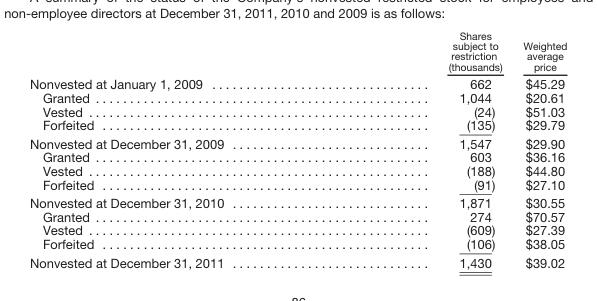table: (28, 28, 566, 270)
table column: (28, 28, 335, 270), (335, 28, 512, 270), (512, 28, 566, 270)
table column header: (28, 28, 566, 74)
table row: (28, 28, 566, 74), (28, 252, 566, 270), (28, 117, 566, 134), (28, 74, 566, 90), (28, 134, 566, 150), (28, 177, 566, 193), (28, 193, 566, 209), (28, 236, 566, 252), (28, 90, 566, 104), (28, 163, 566, 177), (28, 209, 566, 223), (28, 104, 566, 117), (28, 150, 566, 163), (28, 223, 566, 236)
